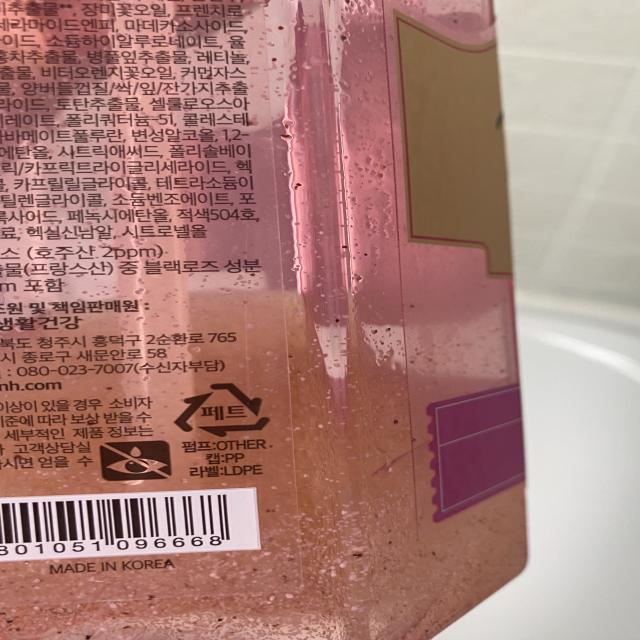PET: (170, 376, 276, 442)
